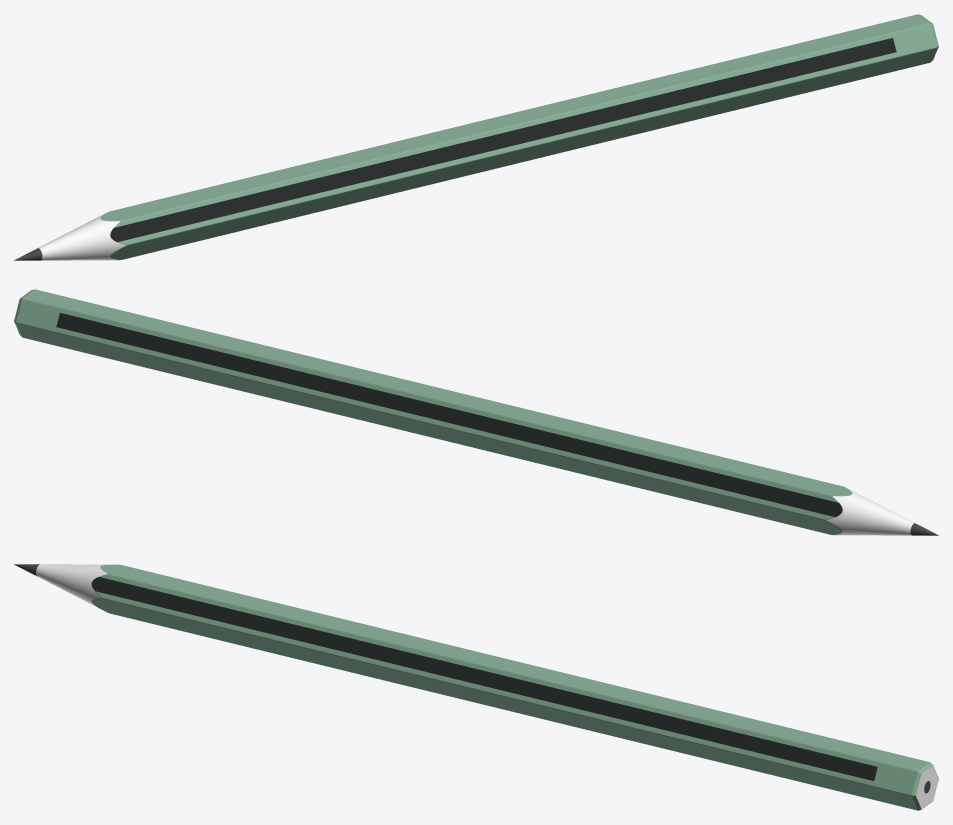
The picture shows the model from 3 angles, top to bottom: view 1: azimuth 30°, elevation 25°; view 2: azimuth 150°, elevation 25°; view 3: azimuth 330°, elevation 25°; orthographic projection.
Visible parts, largest first — view 1: Sage lacquer jacket, Black lacquer panel 2, Wooden barrel; view 2: Sage lacquer jacket, Black lacquer panel 1, Wooden barrel; view 3: Sage lacquer jacket, Black lacquer panel 2, Wooden barrel.
Boxes of the visible parts, x1,y1,x2,y2 form: Sage lacquer jacket: (100,14,938,260); Black lacquer panel 2: (110,38,896,242); Wooden barrel: (38,213,125,260); Sage lacquer jacket: (14,289,852,535); Black lacquer panel 1: (56,313,842,517); Wooden barrel: (827,488,914,535); Sage lacquer jacket: (91,564,938,810); Black lacquer panel 2: (91,577,877,780); Wooden barrel: (36,564,938,809).
Bounding box in the file's own units: 0.174 × 0.0072 × 0.00825.
